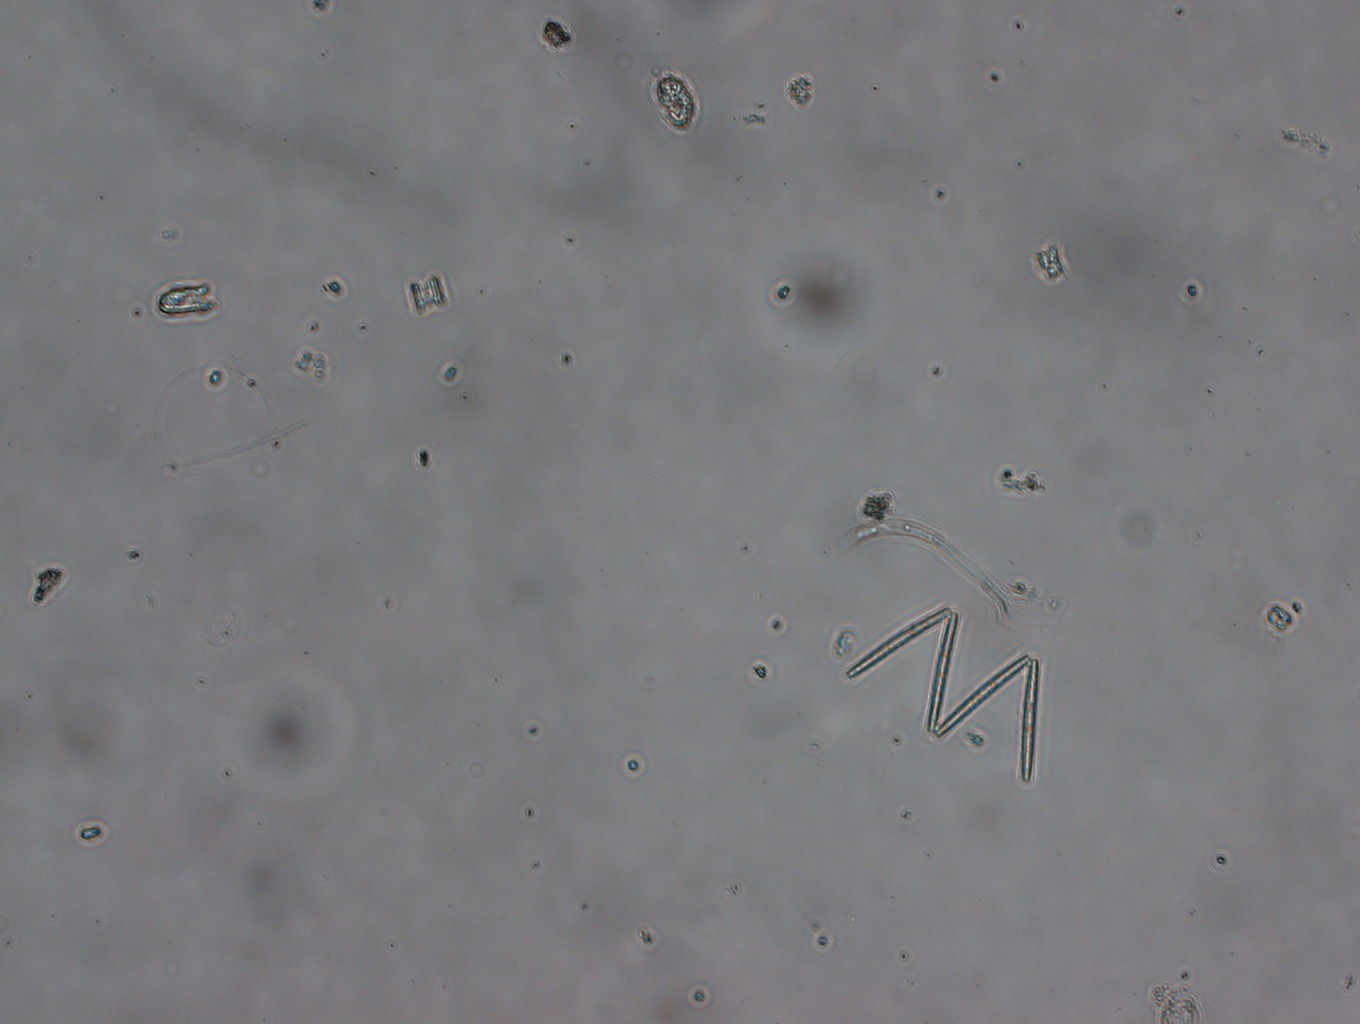thalassionema nitzschioides: (843, 601, 1053, 783)
